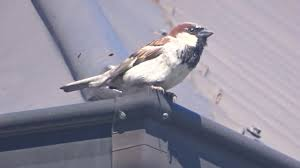hsparrow: (58, 22, 217, 100)
